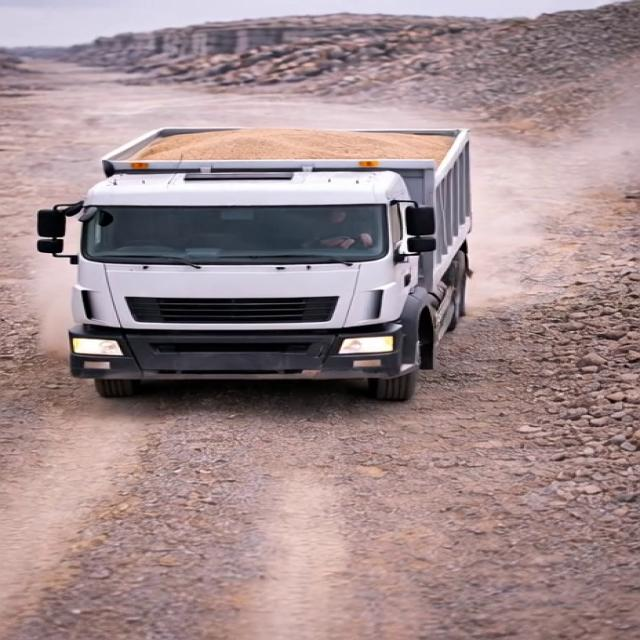trailer: (106, 122, 480, 174)
truck: (32, 108, 490, 406)
